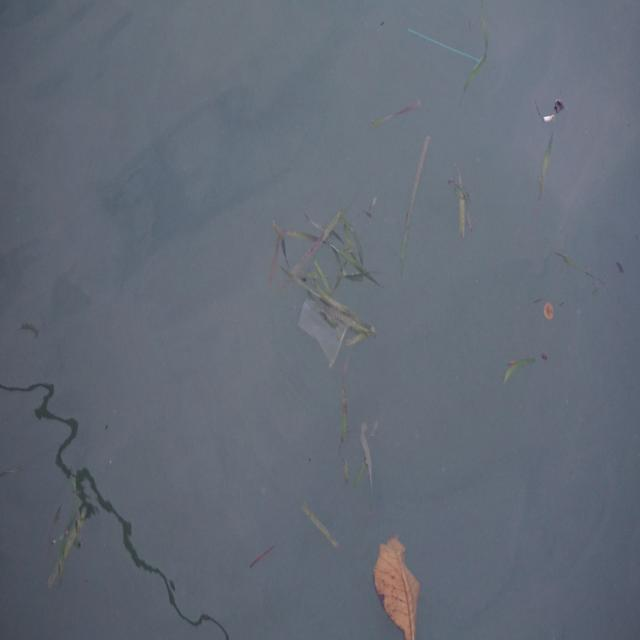Kantong Plastik: (299, 293, 351, 374)
